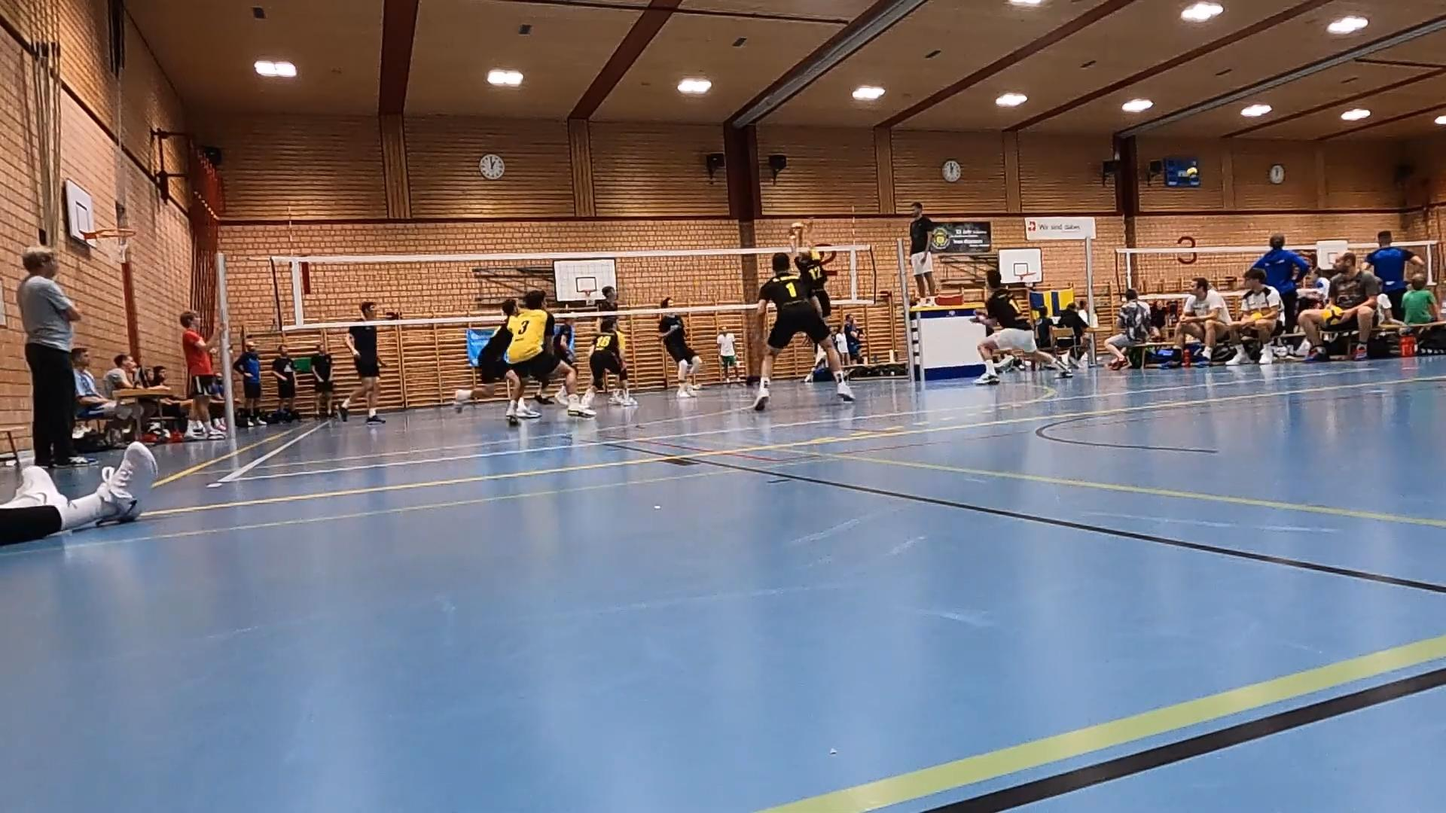Block: (789, 229, 835, 298)
Player: (754, 253, 853, 410), (507, 290, 595, 417), (976, 271, 1072, 384), (477, 298, 539, 424), (582, 318, 636, 406), (338, 324, 384, 424), (658, 313, 701, 397), (551, 319, 576, 367)
